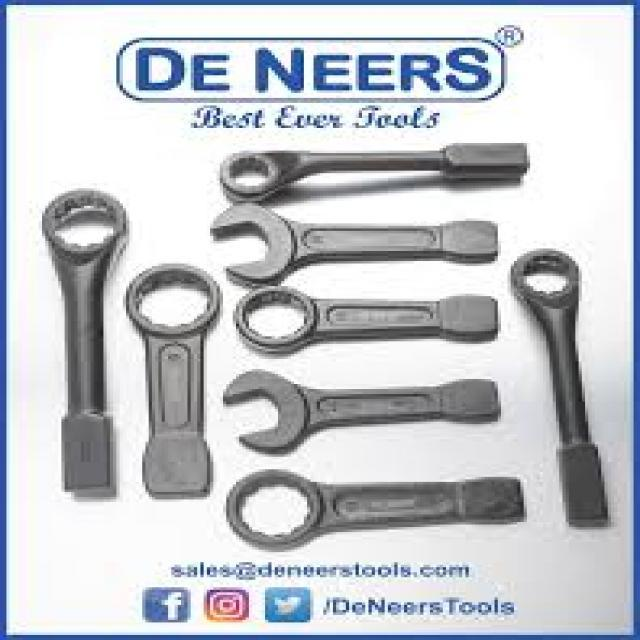wrench: (503, 244, 620, 530), (38, 183, 134, 499), (220, 461, 536, 552), (218, 364, 509, 459), (119, 256, 224, 510), (202, 199, 504, 283), (211, 137, 541, 200)
